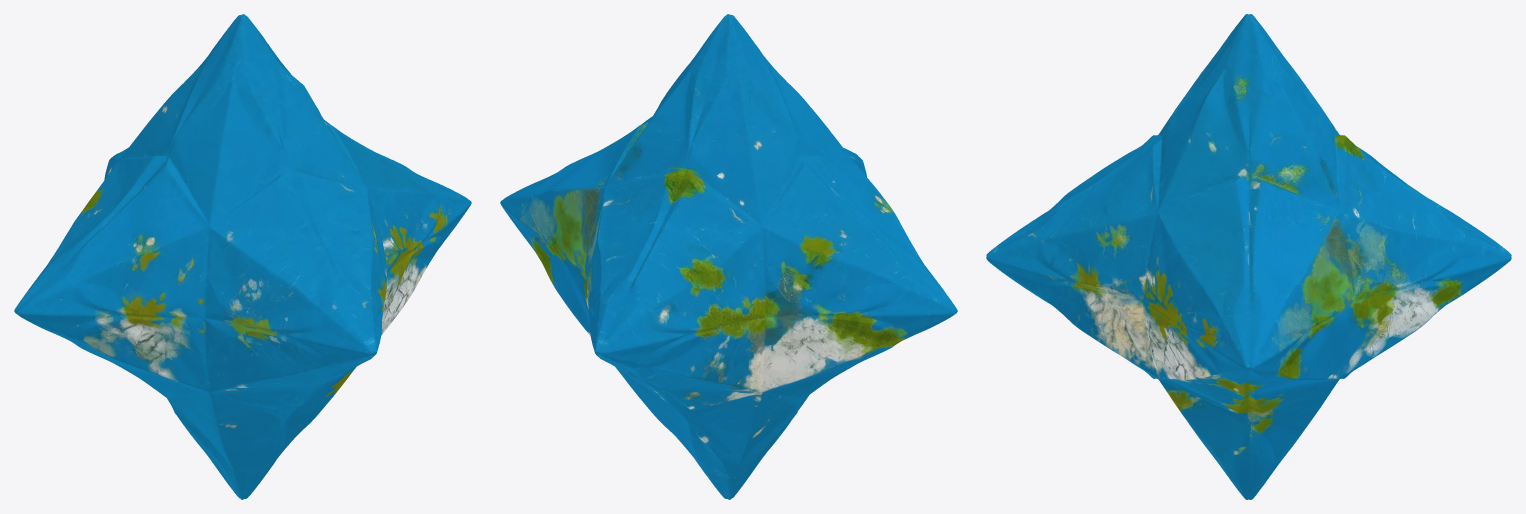
The model's file is Meshy_AI_Prismatic_Diamond_0804231813_texture-optimized_rem9i7.glb.
3 views of the same model, side by side, from view 1: azimuth 30°, elevation 25°; view 2: azimuth 150°, elevation 25°; view 3: azimuth 270°, elevation 25° (orthographic).
Visible parts, largest first — view 1: mesh_node; view 2: mesh_node; view 3: mesh_node.
Part boxes in pixels (x1,y1,x2,y2): mesh_node: [14, 14, 471, 499]; mesh_node: [500, 14, 957, 499]; mesh_node: [986, 14, 1511, 499].
Bounding box in the file's own units: 1.87 × 1.9 × 1.87.
1 material, 1 textured.
